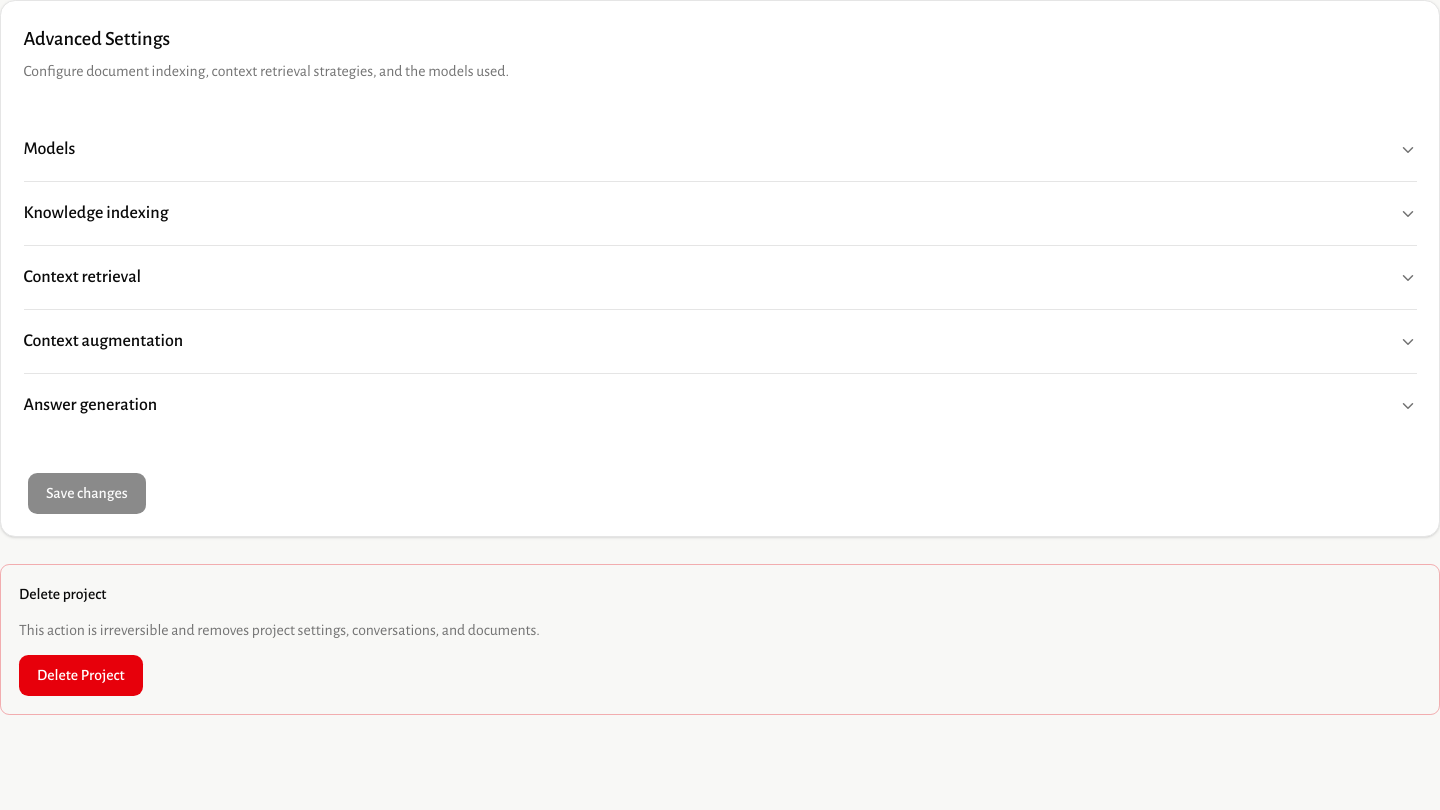
ProjectAdvancedPanel – field values inheritance › Models — Embedding backend inherited label › shows Set by organization (OpenAI) when org has embedding_backend=openai and project has none
The width and height of the screenshot is (1440, 810).
Click the button "Models": point(49, 149) [24,118,1416,181]
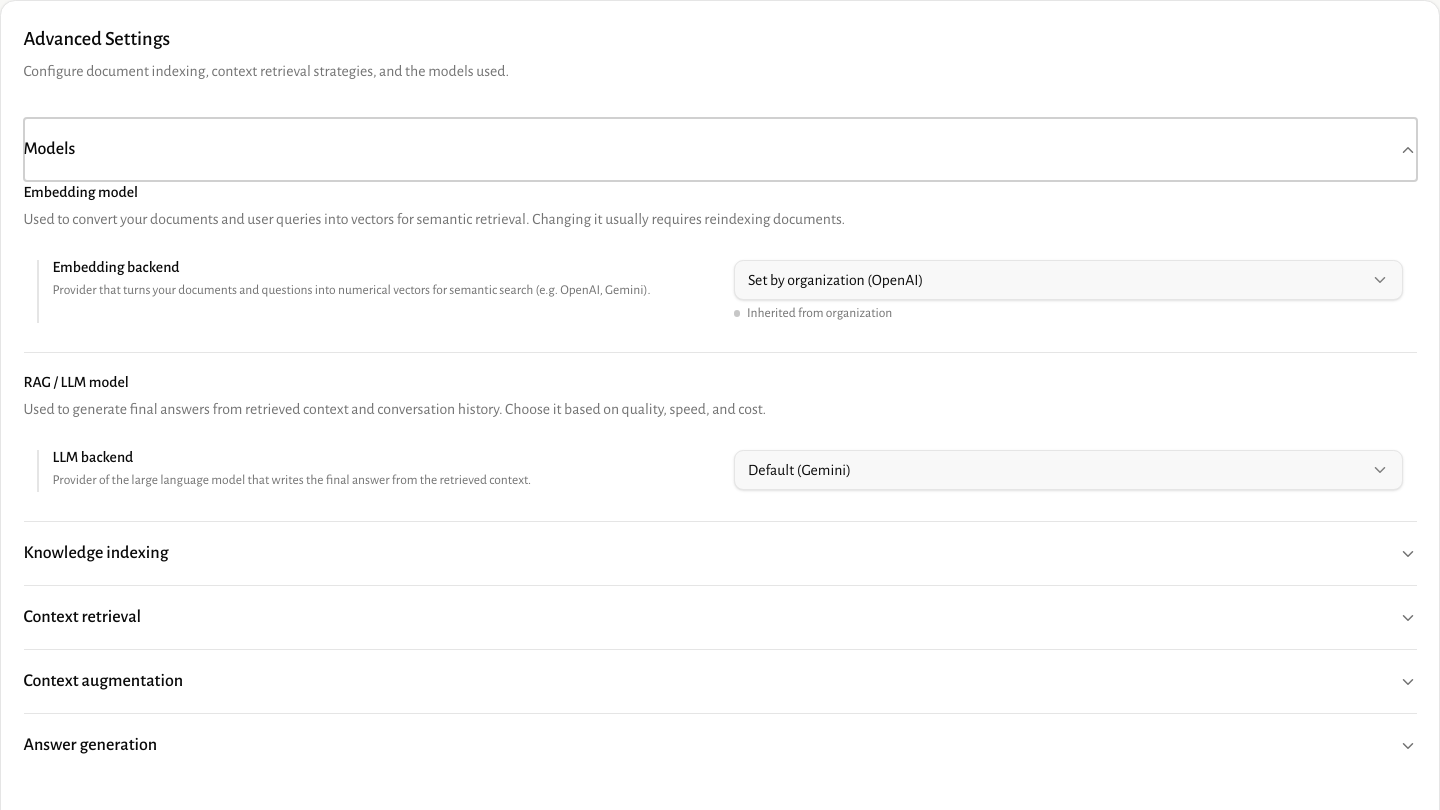
Expected: the text "Set by organization (OpenAI)" is shown, [748,269,923,291]
